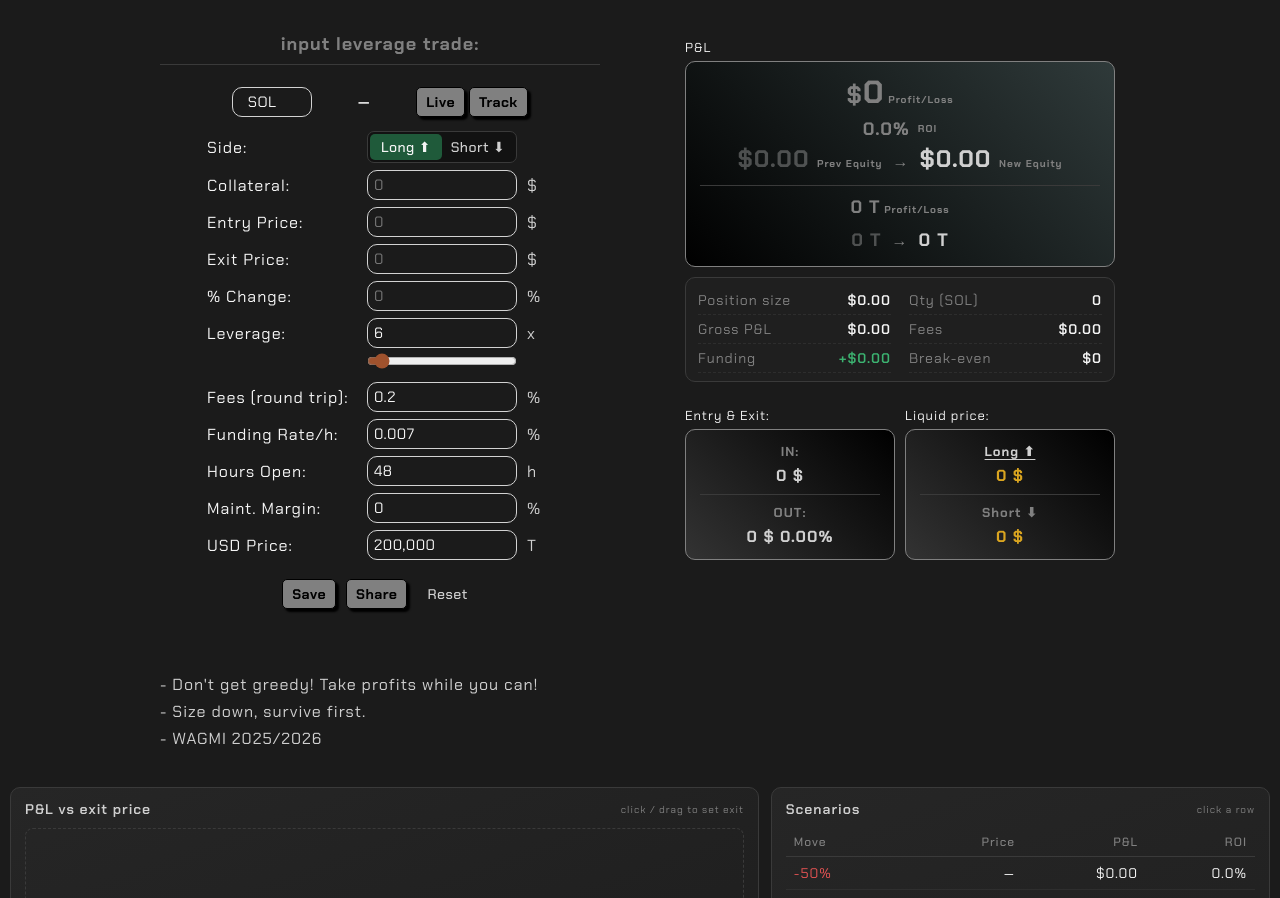
Scenario: Leverage calculator › shows short liquidation from entry and leverage
The width and height of the screenshot is (1280, 898).
Type "12000" into the field named "Entry Price".
click(442, 222); type("12000")  # box [367, 207, 517, 237]
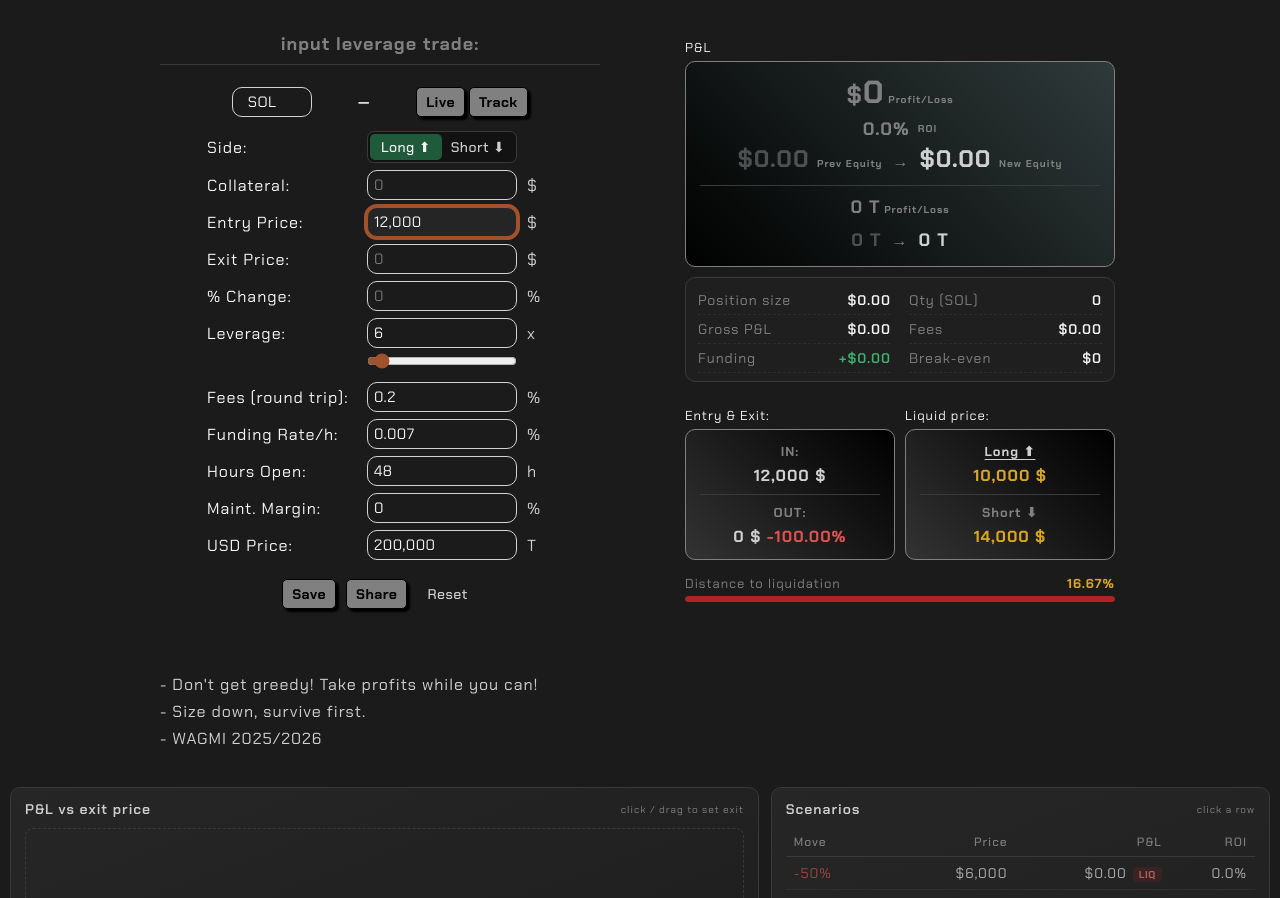
expect the text "14,000 $" is shown: met, box [974, 526, 1046, 547]
Replace the text in the field named "Leverage" with "2" at (442, 333), box [367, 318, 517, 348]
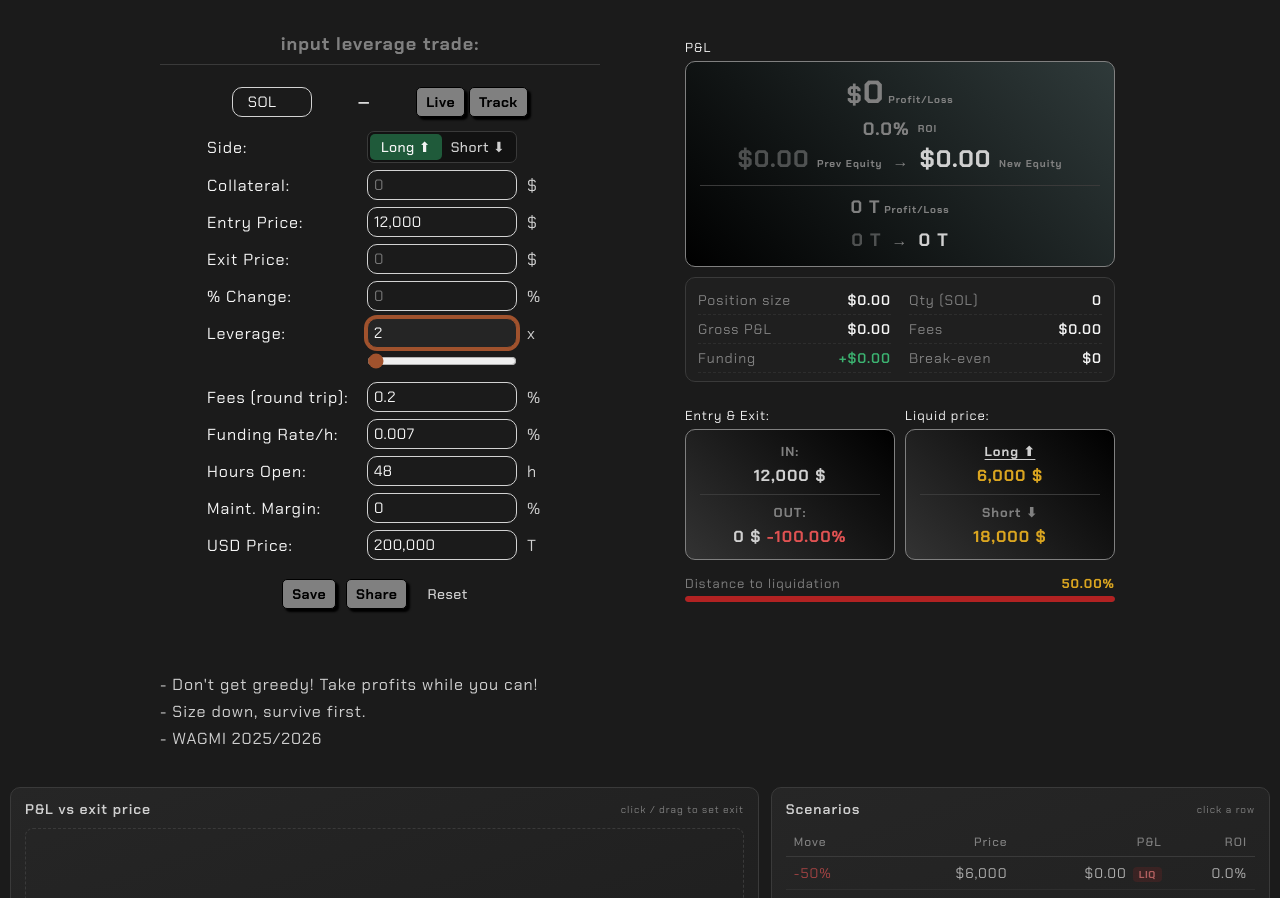
expect the text "18,000 $" is shown: met, box [973, 526, 1047, 547]
